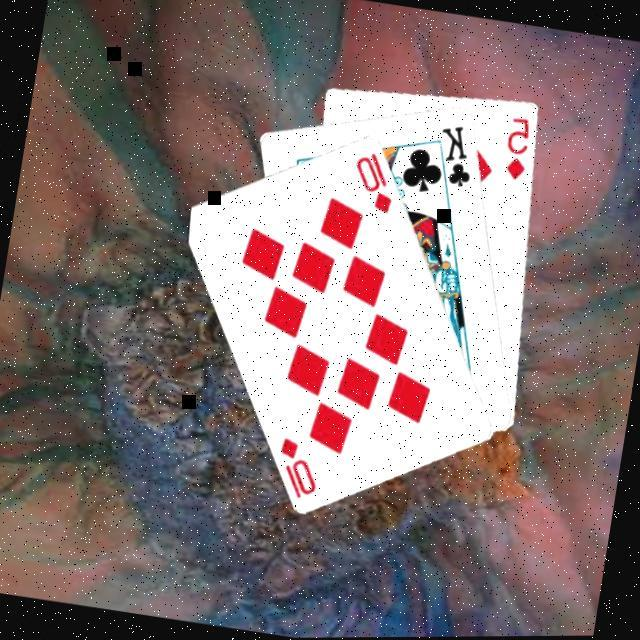10D: (270, 434, 328, 508), (346, 149, 402, 220)
5D: (498, 115, 538, 187)
KC: (426, 122, 483, 204)
